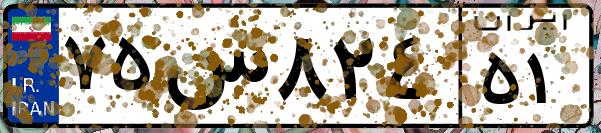1: (525, 38, 570, 115)
2: (330, 28, 385, 110)
4: (385, 28, 445, 110)
5: (475, 38, 525, 113), (110, 28, 158, 98)
7: (57, 26, 110, 100)
8: (270, 28, 330, 110)
س: (158, 20, 270, 120)
